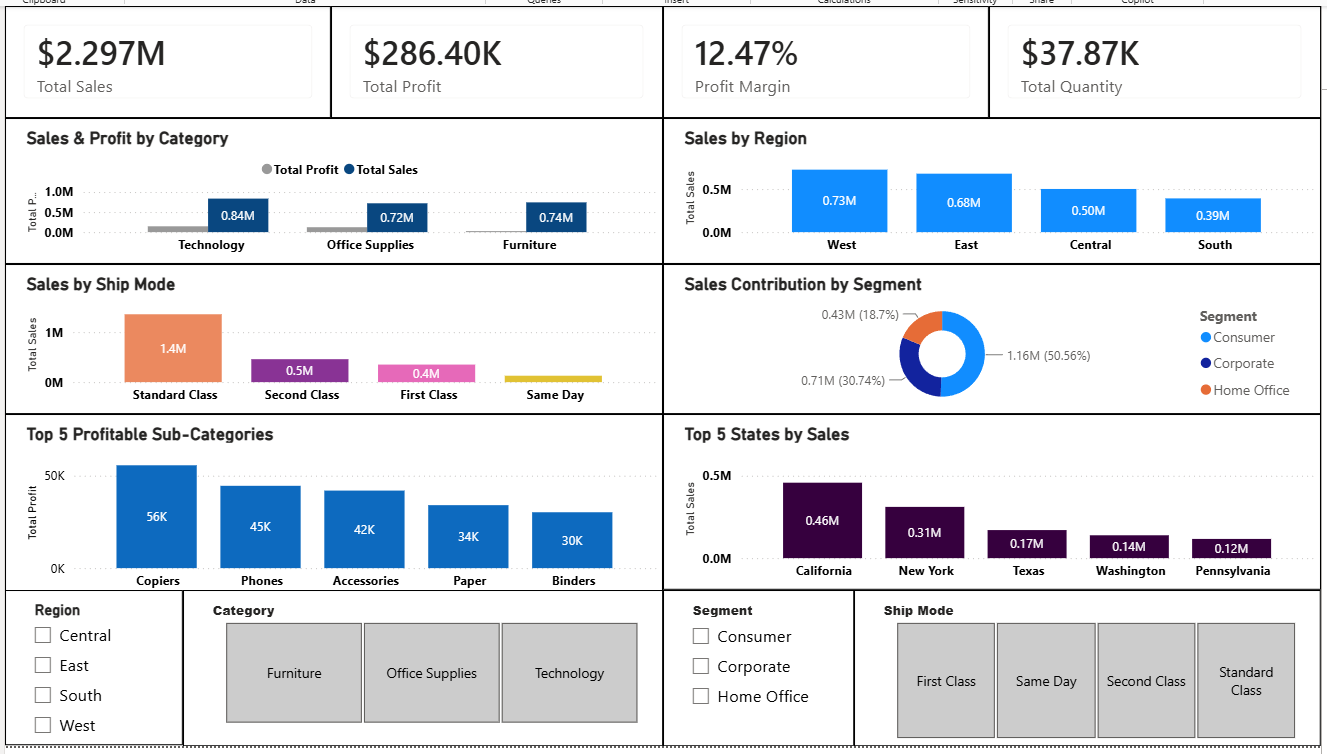

The page's visual inventory and layout, read from the dashboard file:
{"tool":"powerbi","page":{"name":"Page 1","canvas":[1280,720],"ordinal":0},"visuals":[{"type":"cardVisual","fields":{"Data":["SampleSuperstore.Total Sales"]},"box":[7.8,8.7,300.8,100],"z":0},{"type":"cardVisual","fields":{"Data":["SampleSuperstore.Total Quantity"]},"box":[956.8,8.7,313.4,100],"z":1000},{"type":"cardVisual","fields":{"Data":["SampleSuperstore.Total Profit"]},"box":[317.3,8.7,314.4,100],"z":2000},{"type":"cardVisual","fields":{"Data":["SampleSuperstore.Profit Margin"]},"box":[640.5,8.7,307.6,100],"z":3000},{"type":"clusteredColumnChart","title":"Sales & Profit by Category","fields":{"Category":["SampleSuperstore.Category"],"Y":["SampleSuperstore.Total Profit","SampleSuperstore.Total Sales"]},"box":[7.8,115.5,624,128.1],"z":4000},{"type":"columnChart","title":"Sales by Region","fields":{"Category":["SampleSuperstore.Region"],"Y":["SampleSuperstore.Total Sales"]},"box":[640.5,115.5,629.8,128.1],"z":5000},{"type":"donutChart","title":"Sales Contribution by Segment","fields":{"Category":["SampleSuperstore.Segment"],"Y":["SampleSuperstore.Total Sales"]},"box":[640.5,251.3,629.8,138.8],"z":6000},{"type":"columnChart","title":"Sales by Ship Mode","fields":{"Category":["SampleSuperstore.Ship Mode"],"Y":["SampleSuperstore.Total Sales"]},"box":[7.8,251.3,624,138.8],"z":7000},{"type":"columnChart","title":"Top 5 States by Sales","fields":{"Category":["SampleSuperstore.State"],"Y":["SampleSuperstore.Total Sales"]},"box":[640.5,396.9,629.8,152.4],"z":8000},{"type":"columnChart","title":"Top 5 Profitable Sub-Categories","fields":{"Category":["SampleSuperstore.Sub-Category"],"Y":["SampleSuperstore.Total Profit"]},"box":[7.8,396.9,624,152.4],"z":9000},{"type":"slicer","fields":{"Values":["SampleSuperstore.Region"]},"box":[7.8,557,165,151.4],"z":10000},{"type":"slicer","fields":{"Values":["SampleSuperstore.Category"]},"box":[172.7,557,459,152.4],"z":11000},{"type":"slicer","fields":{"Values":["SampleSuperstore.Segment"]},"box":[640.5,557,185.4,152.4],"z":12000},{"type":"slicer","fields":{"Values":["SampleSuperstore.Ship Mode"]},"box":[833.6,557,436.7,152.4],"z":13000}]}

Visuals, with their boxes in screenshot pixels (x1, y1, x2, y2):
cardVisual - SampleSuperstore.Total Sales: BBox(0, 6, 313, 112)
cardVisual - SampleSuperstore.Total Quantity: BBox(1000, 6, 1326, 112)
cardVisual - SampleSuperstore.Total Profit: BBox(323, 6, 656, 112)
cardVisual - SampleSuperstore.Profit Margin: BBox(665, 6, 991, 112)
"Sales & Profit by Category" clusteredColumnChart: BBox(0, 119, 656, 255)
"Sales by Region" columnChart: BBox(665, 119, 1326, 255)
"Sales Contribution by Segment" donutChart: BBox(665, 263, 1326, 410)
"Sales by Ship Mode" columnChart: BBox(0, 263, 656, 410)
"Top 5 States by Sales" columnChart: BBox(665, 417, 1326, 579)
"Top 5 Profitable Sub-Categories" columnChart: BBox(0, 417, 656, 579)
slicer - SampleSuperstore.Region: BBox(0, 587, 169, 747)
slicer - SampleSuperstore.Category: BBox(169, 587, 656, 748)
slicer - SampleSuperstore.Segment: BBox(665, 587, 862, 748)
slicer - SampleSuperstore.Ship Mode: BBox(870, 587, 1326, 748)
